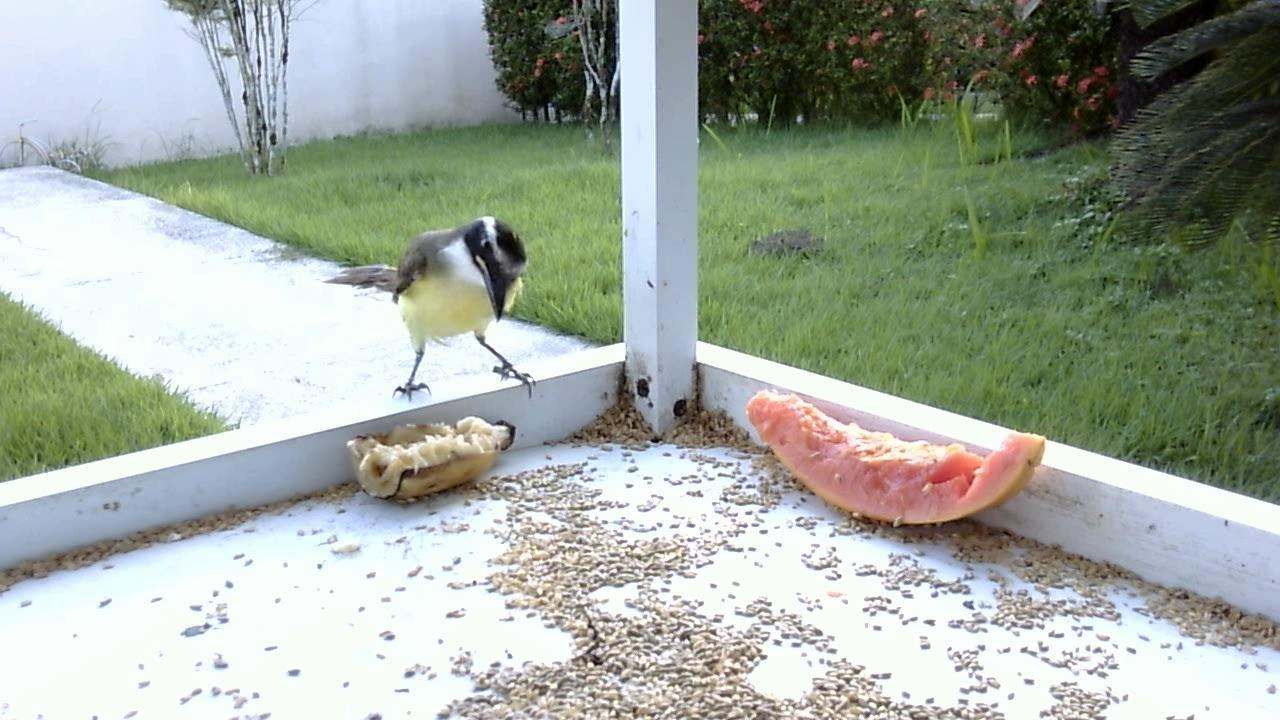bem_te_vi: (320, 205, 540, 420)
